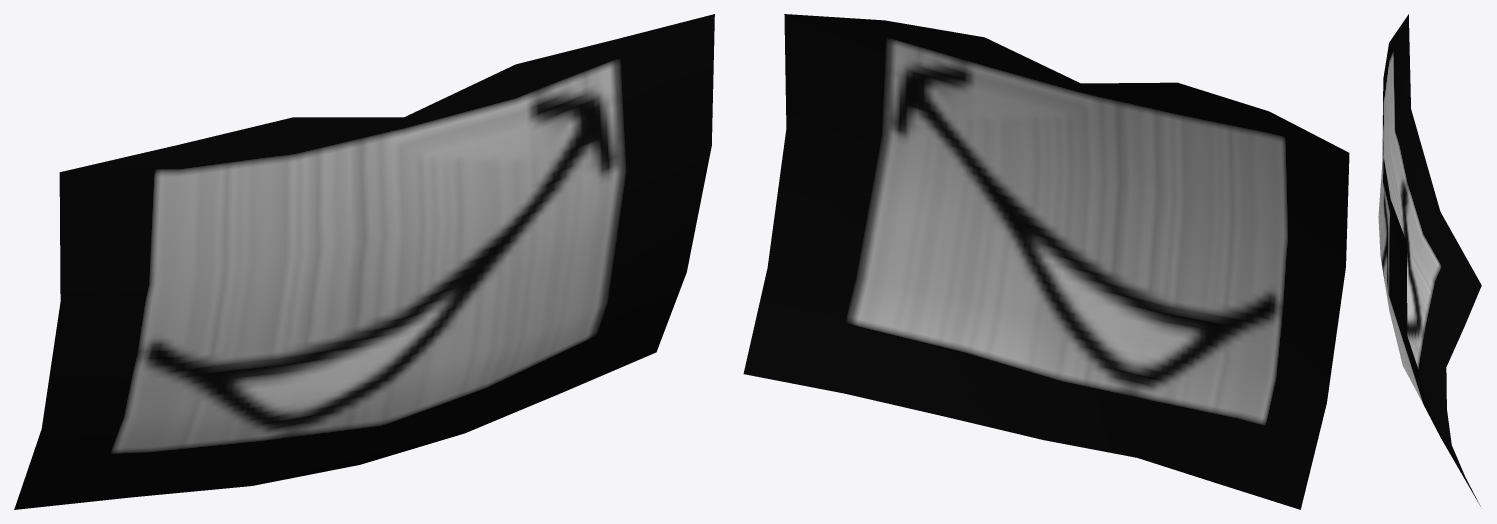
3 views of the same model, side by side, from view 1: azimuth 30°, elevation 25°; view 2: azimuth 150°, elevation 25°; view 3: azimuth 270°, elevation 25° (orthographic). The views are drawn at different scales.
Parts seen in each view (by area): view 1: smile_4; view 2: smile_4; view 3: smile_4.
Boxes of the visible parts, x1,y1,x2,y2 form: smile_4: (14, 14, 714, 509); smile_4: (743, 14, 1349, 509); smile_4: (1378, 14, 1481, 506).
Size of the model in its own units: 0.2712 by 0.1614 by 0.0522.
Materials: 1 (1 with a texture image).
